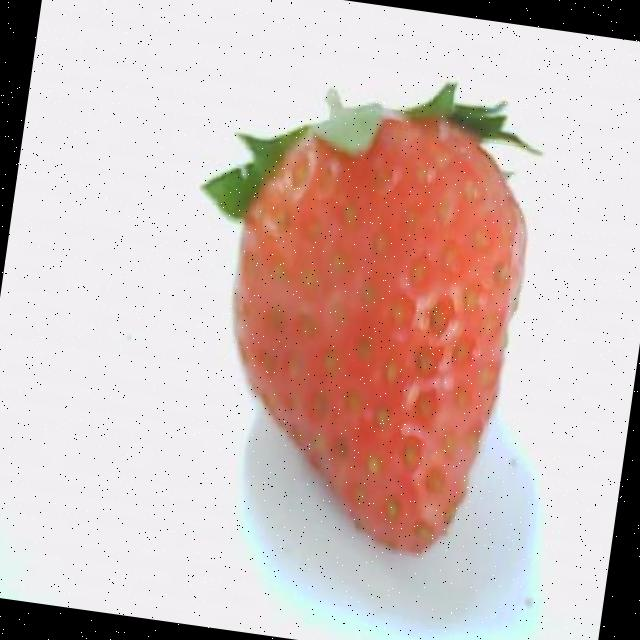strawberry: (203, 83, 538, 553)
